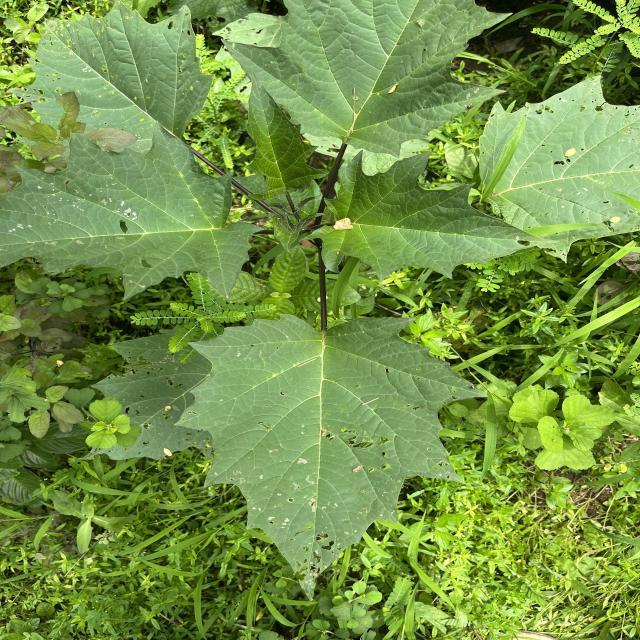Datura metal linn: (168, 307, 494, 605), (0, 116, 266, 304), (219, 0, 517, 161), (298, 147, 561, 283), (1, 0, 218, 154), (472, 71, 640, 266), (240, 66, 332, 204)
